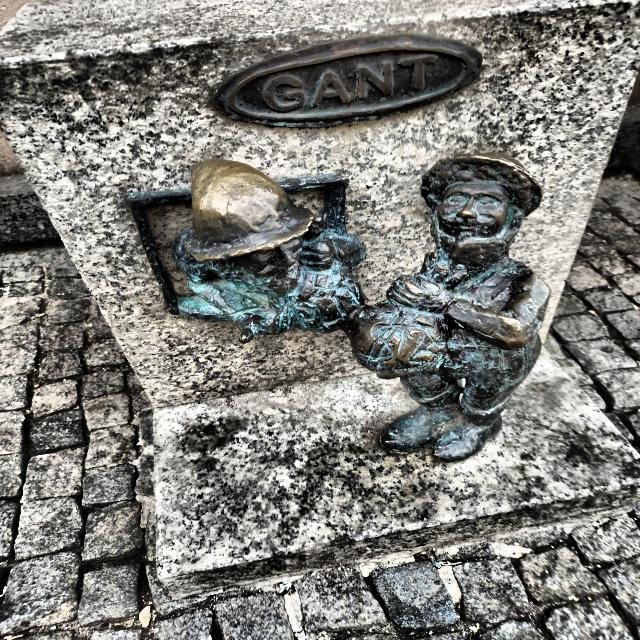Kantorki: (127, 154, 550, 461)
